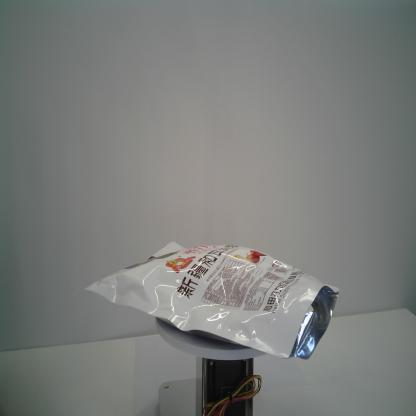Dried Food: (81, 238, 342, 363)
